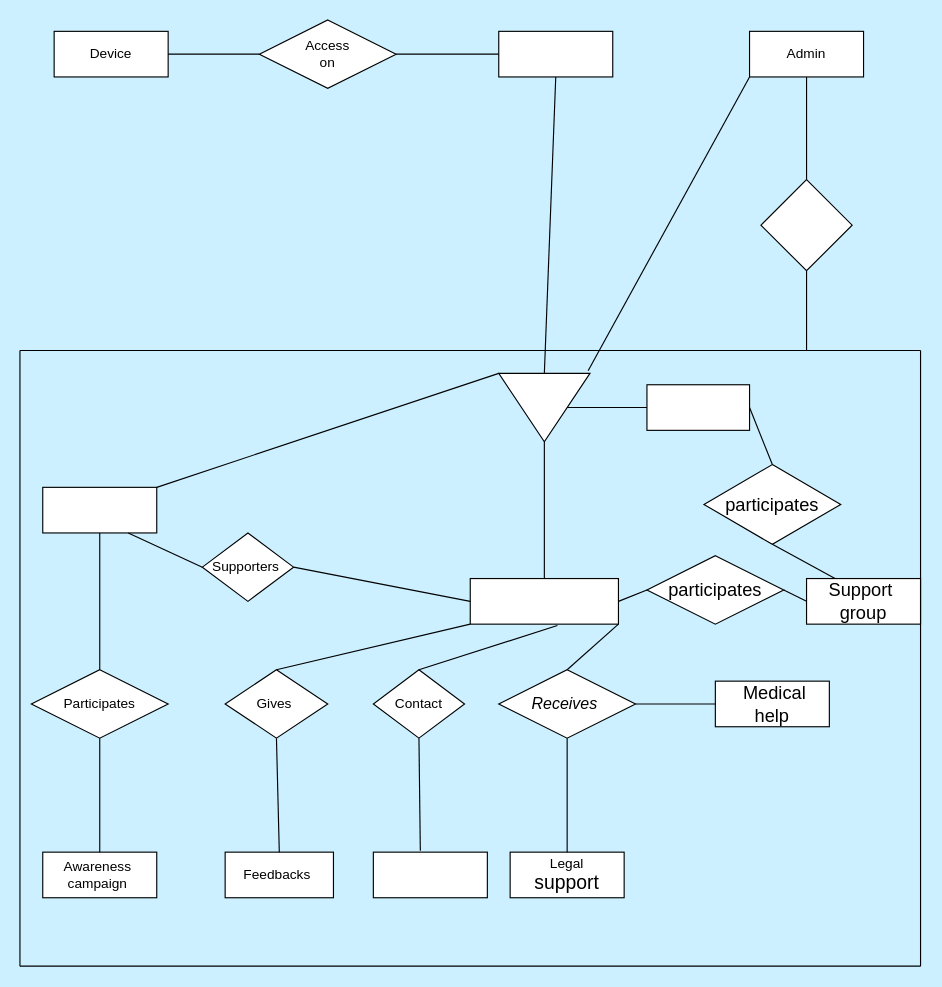
Some shapes in this 942 by 987 pixel diagram are drawn without their labels. The shapes that lost their labels are listed below. From the top down, each one's box as (x1, y1, x2, y2) in pixels, then its label:
(498, 30, 613, 77): User
(760, 178, 852, 271): Manages
(498, 372, 590, 442): Is A
(646, 384, 750, 430): Counsellor
(42, 486, 157, 533): Volunteer
(469, 577, 618, 624): Victim
(372, 851, 487, 898): Helpline centers
